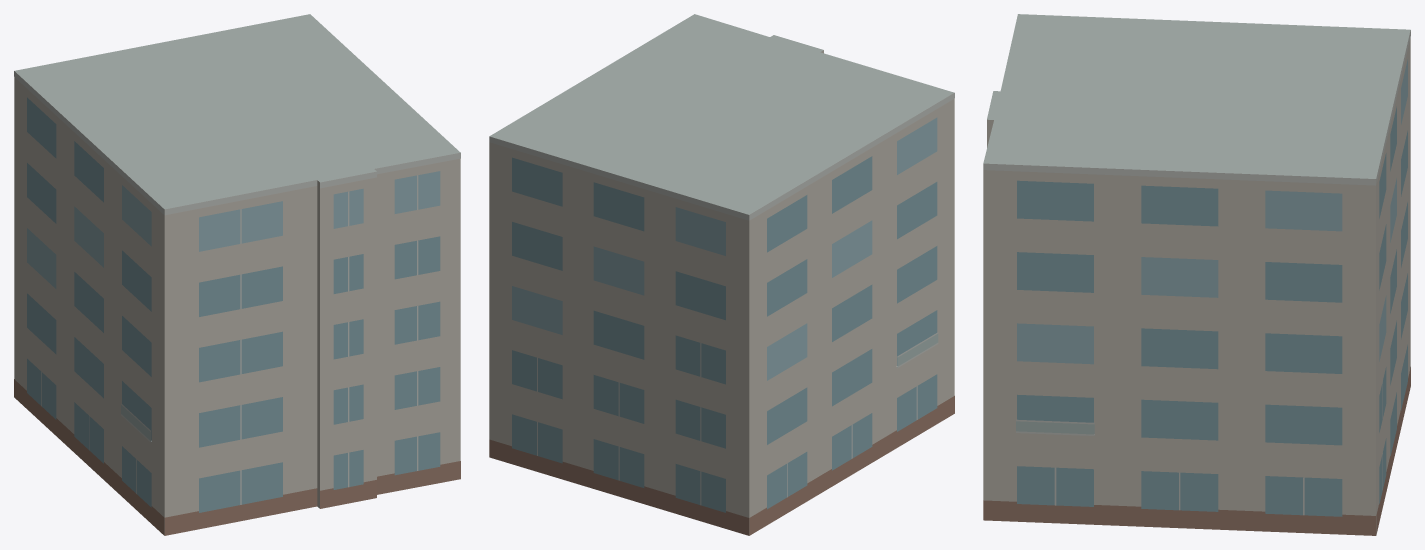
The model's file is survey-upis-32983876.glb.
3 renders of one model, left to right at view 1: azimuth 30°, elevation 25°; view 2: azimuth 150°, elevation 25°; view 3: azimuth 270°, elevation 25°, orthographic. The views are drawn at different scales.
Visible parts, largest first — view 1: survey-upis-32983876.tmp; view 2: survey-upis-32983876.tmp; view 3: survey-upis-32983876.tmp.
Part boxes in pixels (x1,y1,x2,y2): survey-upis-32983876.tmp: [14, 14, 460, 535]; survey-upis-32983876.tmp: [489, 14, 954, 535]; survey-upis-32983876.tmp: [983, 14, 1410, 535].
Size of the model in its own units: 13.41 by 13.5 by 14.67.
